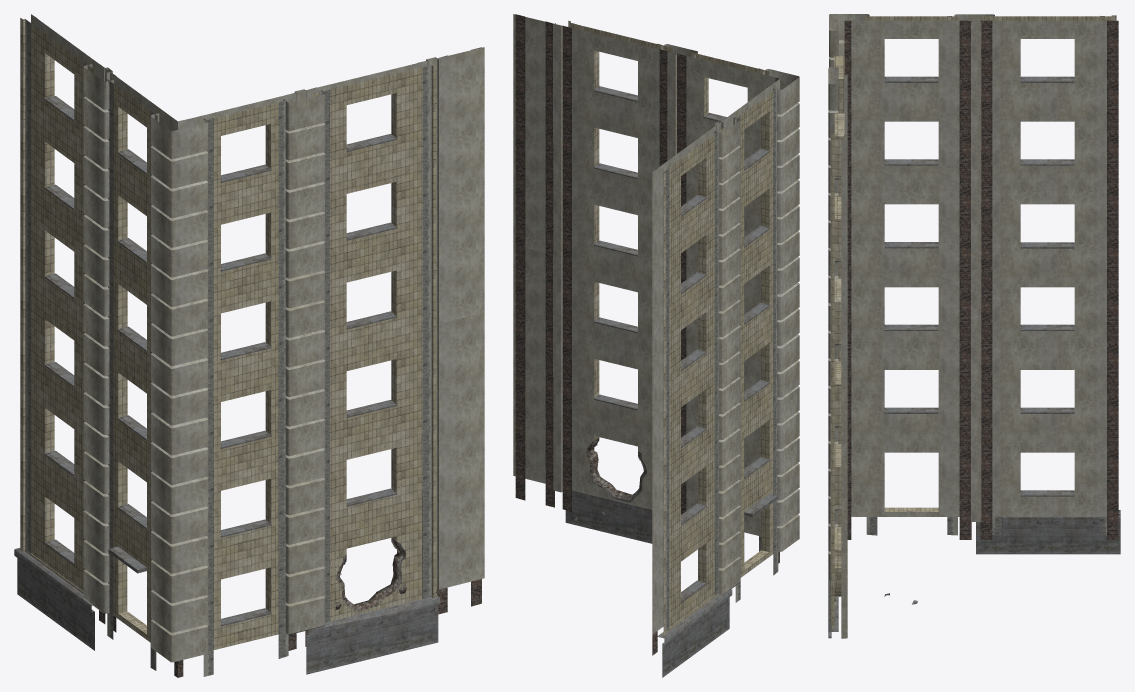
Rendered from corner_building_a_exterior.FBX.
3 views of the same model, side by side, from view 1: azimuth 30°, elevation 25°; view 2: azimuth 150°, elevation 25°; view 3: azimuth 270°, elevation 25° (orthographic). The views are drawn at different scales.
Visible parts, largest first — view 1: corner_building_a_exterior; view 2: corner_building_a_exterior; view 3: corner_building_a_exterior.
Boxes of the visible parts, left/top/right/bottom form: corner_building_a_exterior: left=14, top=14, right=484, bottom=677; corner_building_a_exterior: left=513, top=14, right=799, bottom=677; corner_building_a_exterior: left=828, top=14, right=1120, bottom=638.
Size of the model in its own units: 1296 by 2202 by 1080.
